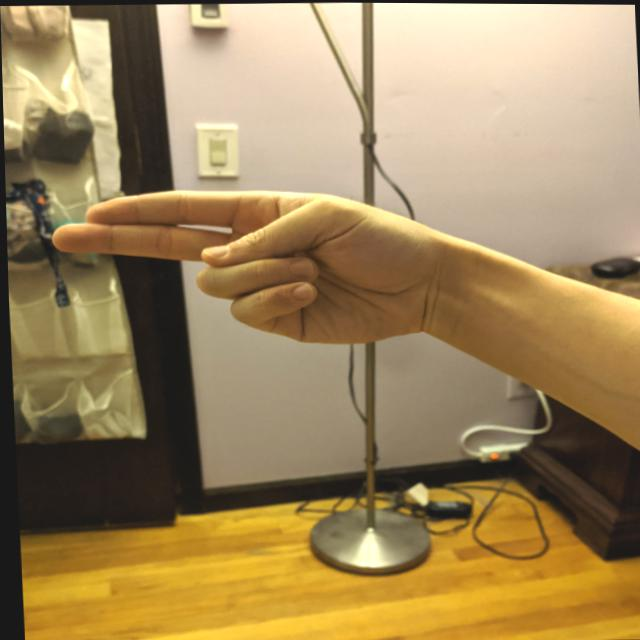H: (40, 181, 456, 362)
